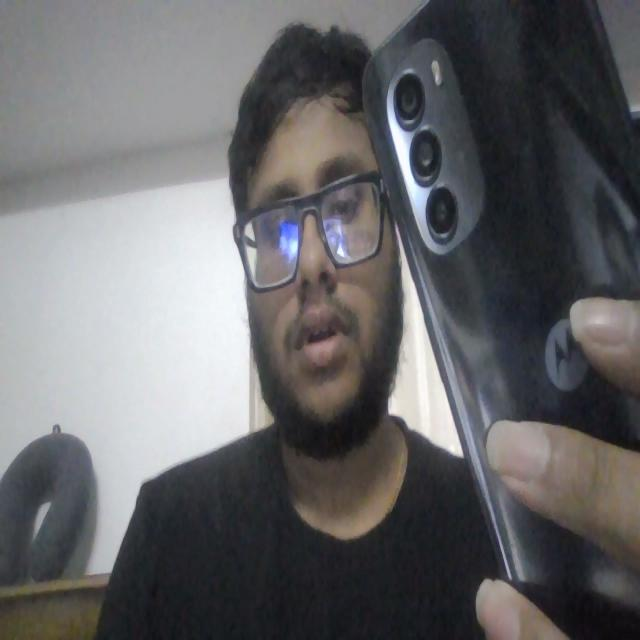phone: (377, 0, 640, 551)
